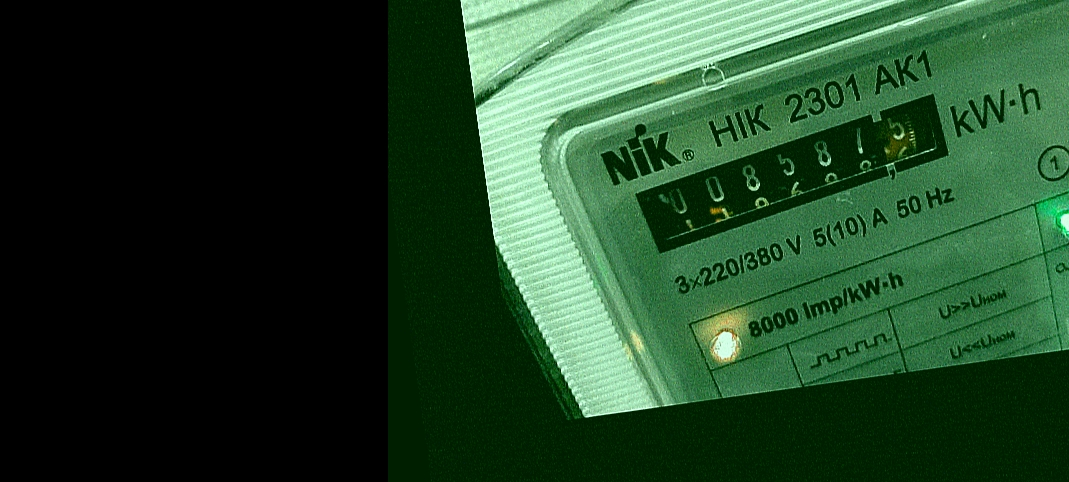0: (700, 168, 731, 205), (664, 181, 694, 216)
5: (774, 145, 801, 179), (883, 107, 910, 141)
6: (893, 142, 913, 161)
7: (846, 122, 873, 158)
8: (809, 134, 837, 170), (738, 159, 766, 194)
screen: (619, 88, 980, 257)
